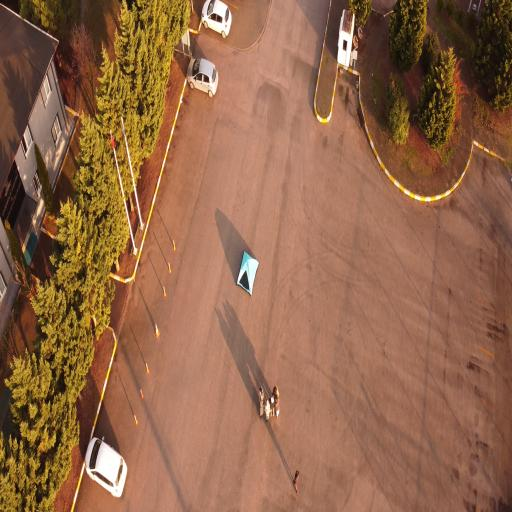tent: (234, 248, 258, 298)
